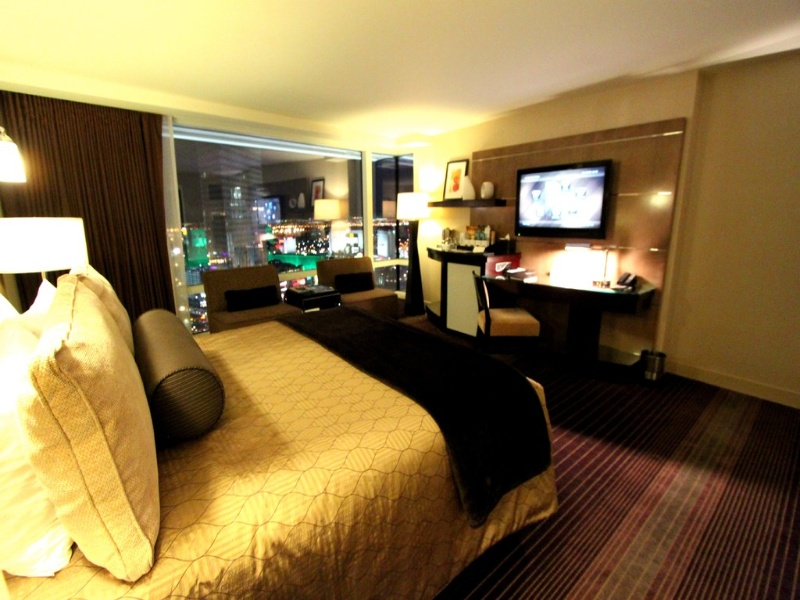chair: (462, 268, 553, 361)
tv: (506, 154, 611, 237)
